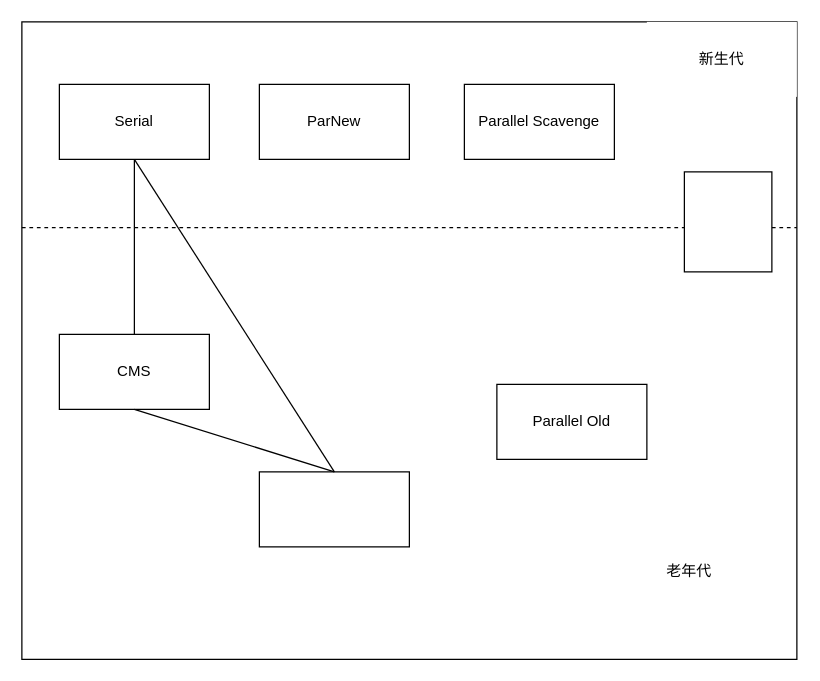
The diagram is 820 pixels wide and 681 high, and some of its shapes have lost their labels. The centre of each missing label's shape, as x and y in pixels:
"G1" belongs at [727,221].
"Serial Old" belongs at [333,509].
